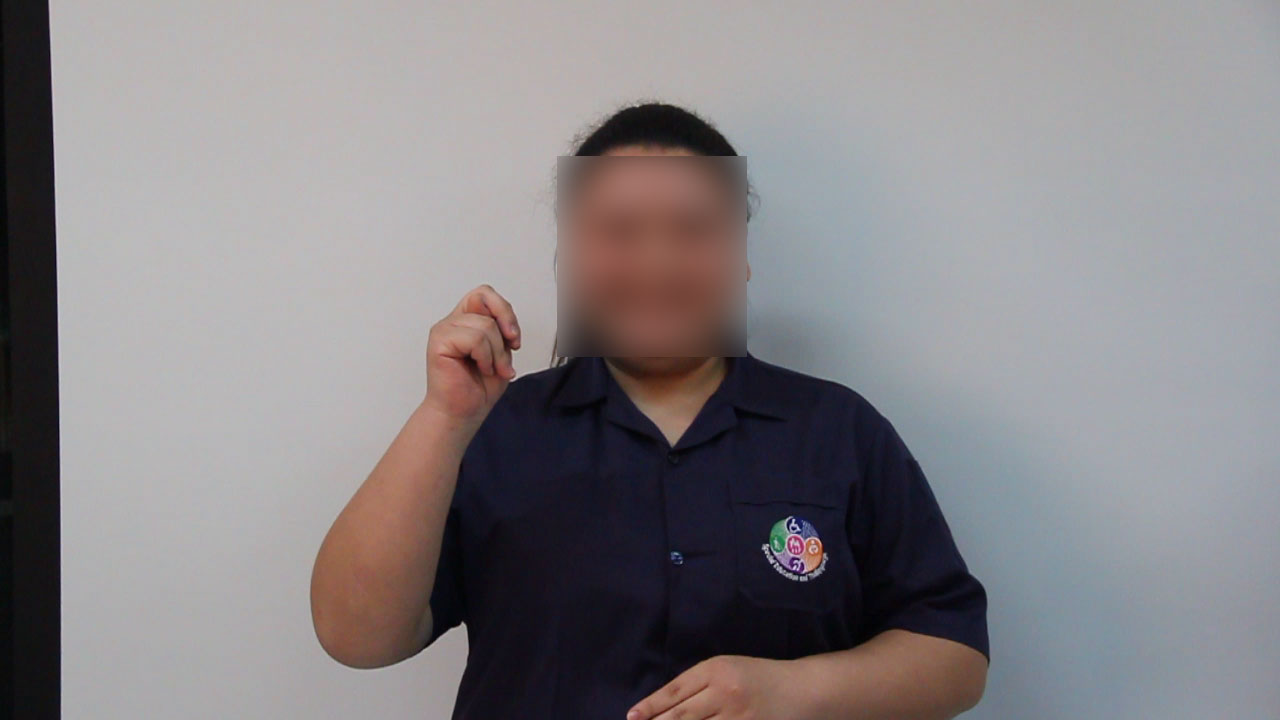nor: (401, 272, 535, 419)
